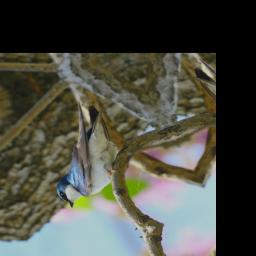Swallow: (14, 93, 152, 210)
